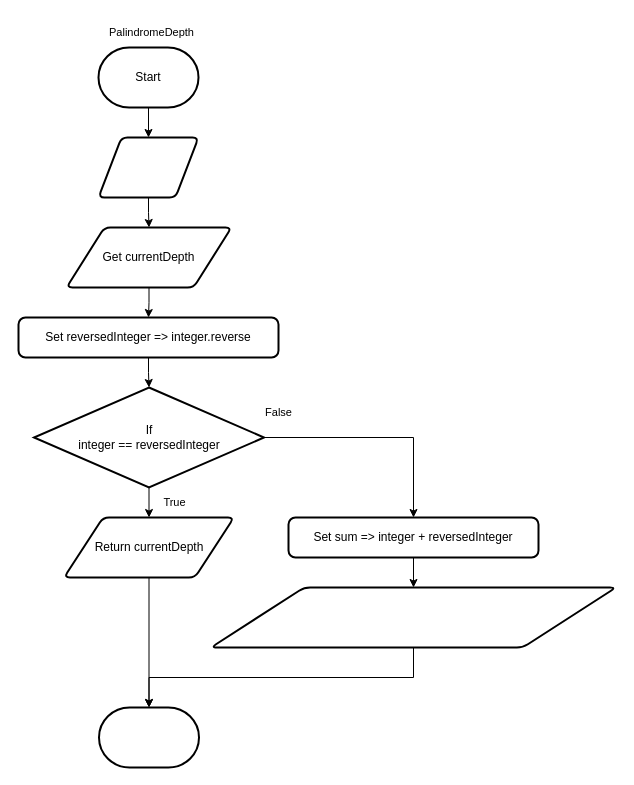
Some shapes in this 634 by 785 pixel diagram are drawn without their labels. Each missing label, with the centre of its shape:
Get integer: (148,167)
Return PalindromeDepth(sum, currentDepth + 1): (413,617)
Stop: (149,737)
